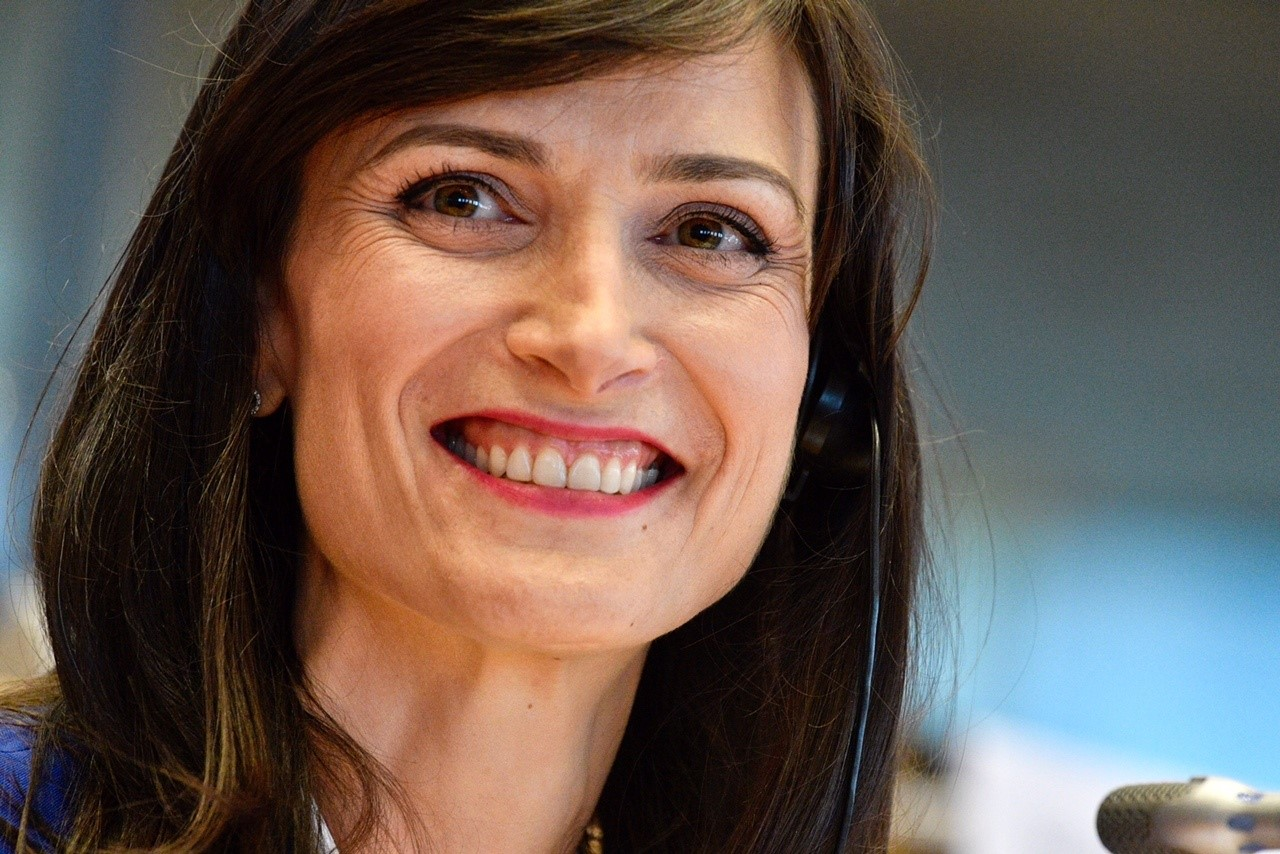face_no_mask: (225, 2, 897, 660)
